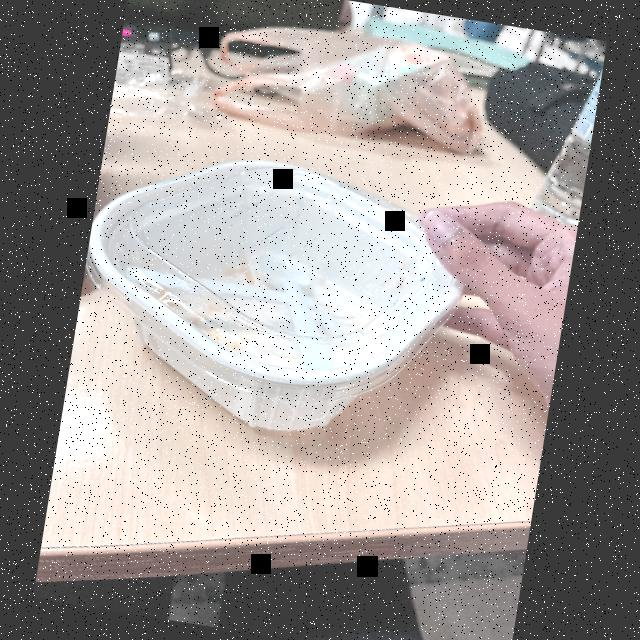plastic_box: (64, 128, 488, 466)
